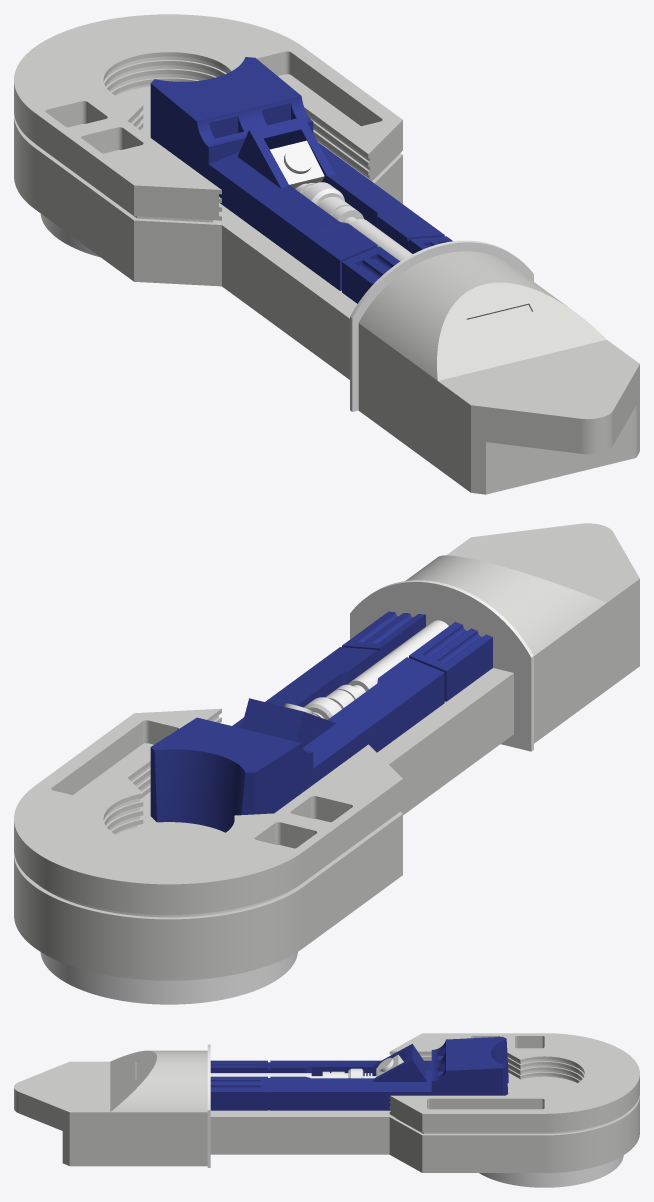
Rendered from right_leg.obj.
3 views of the same model, one above another, from view 1: azimuth 30°, elevation 25°; view 2: azimuth 150°, elevation 25°; view 3: azimuth 270°, elevation 25° (orthographic). The views are drawn at different scales.
Visible parts, largest first — view 1: Ankle, Left, Body1:1, Leg, Body1:2, Ankle Plate; view 2: Left, Leg, Body1:1, Ankle, Ankle Plate, Shoulder Flange, Body1:2, Body1; view 3: Leg, Ankle, Left, Body1:1, Shoulder Flange, Body1:2, Body1, Ankle Plate.
Part boxes in pixels (box(x1,y1,x2,y2)): Ankle: box(358, 251, 639, 494); Left: box(14, 14, 402, 220); Body1:1: box(150, 57, 452, 303); Leg: box(14, 86, 402, 379); Body1:2: box(270, 140, 412, 261); Ankle Plate: box(350, 240, 533, 411); Left: box(14, 708, 402, 914); Leg: box(14, 668, 513, 980); Body1:1: box(150, 611, 492, 832); Ankle: box(405, 523, 639, 743); Ankle Plate: box(350, 580, 533, 751); Shoulder Flange: box(40, 952, 297, 1004); Body1:2: box(284, 620, 448, 719); Body1: box(36, 792, 396, 917); Leg: box(210, 1072, 639, 1172); Ankle: box(14, 1050, 207, 1166); Left: box(389, 1033, 639, 1132); Body1:1: box(210, 1036, 508, 1110); Shoulder Flange: box(479, 1155, 623, 1187); Body1:2: box(210, 1054, 403, 1078); Body1: box(396, 1072, 624, 1133); Ankle Plate: box(207, 1044, 210, 1167).
Size of the model in its own units: 0.2039 by 0.1208 by 0.6687.
